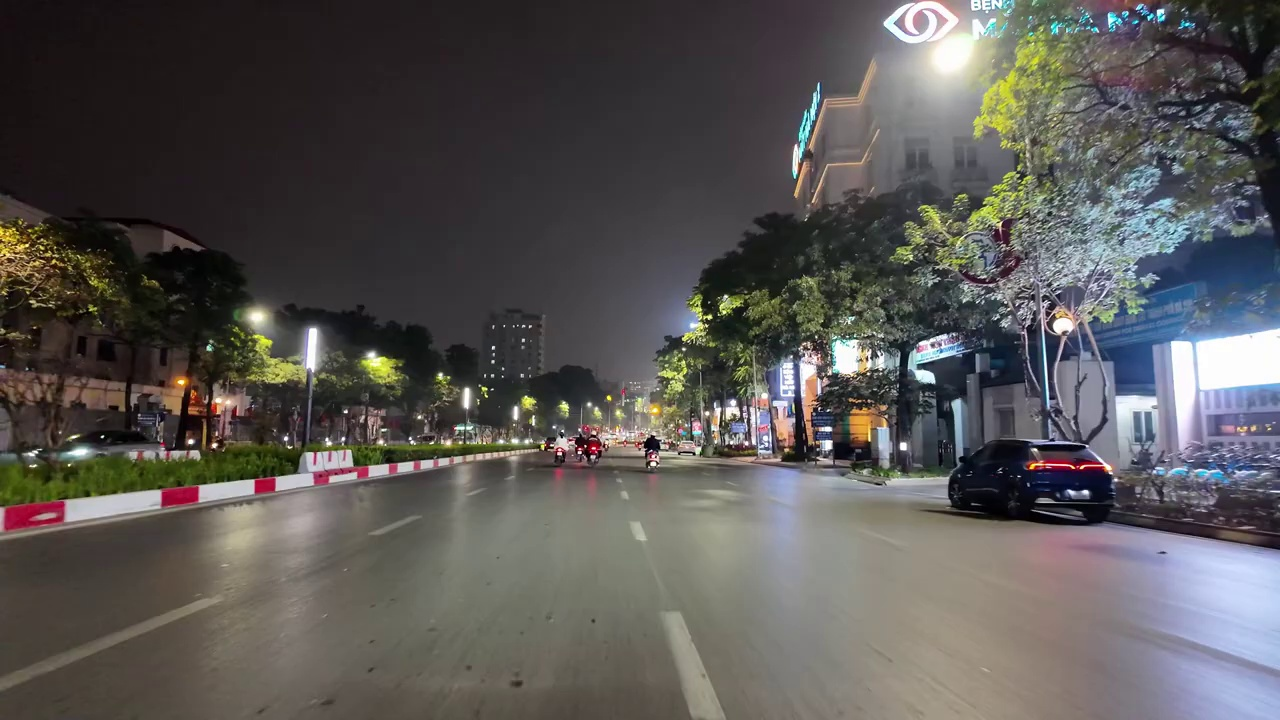acesa: (926, 14, 980, 77), (928, 38, 981, 77), (244, 305, 272, 330)
